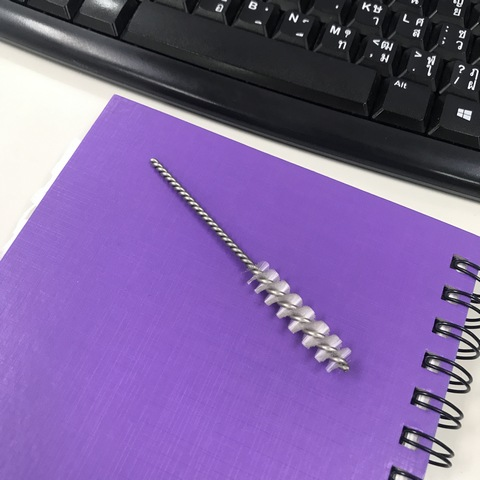Twist Brush-B: (146, 155, 353, 374)
